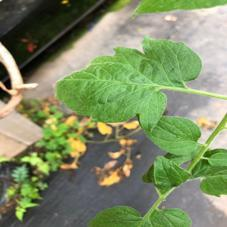Healthy: (53, 35, 204, 135), (142, 114, 202, 157)
